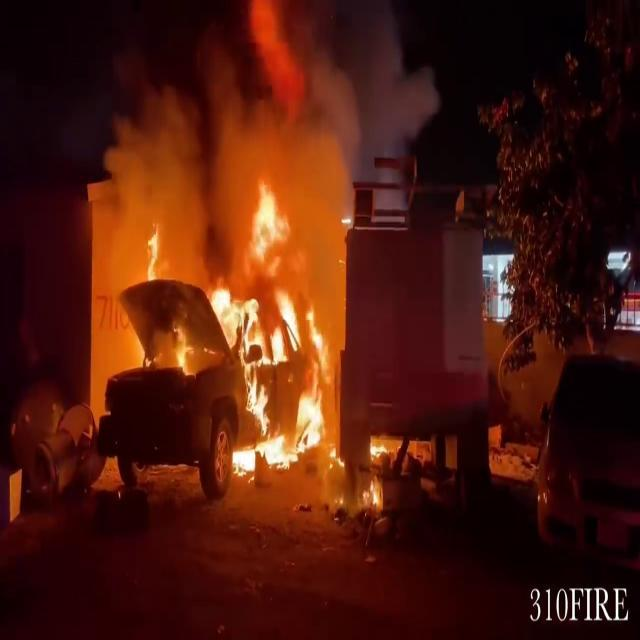Fire: (210, 188, 332, 474)
Smoke: (92, 0, 424, 268)
